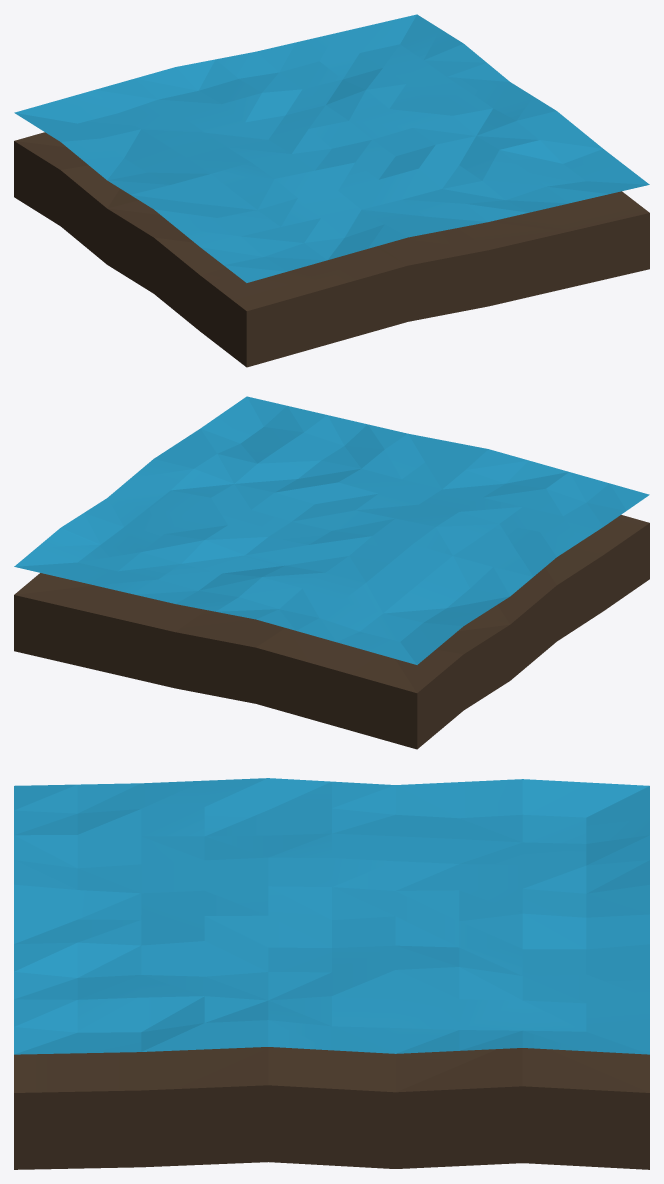
The model's file is terrains_terrain-world-water.fbx.
3 renders of one model, top to bottom at view 1: azimuth 30°, elevation 25°; view 2: azimuth 150°, elevation 25°; view 3: azimuth 270°, elevation 25°, orthographic. The views are drawn at different scales.
Visible parts, largest first — view 1: terrains_terrain_world_water; view 2: terrains_terrain_world_water; view 3: terrains_terrain_world_water.
Boxes of the visible parts, x1,y1,x2,y2 form: terrains_terrain_world_water: [14, 14, 649, 367]; terrains_terrain_world_water: [14, 396, 649, 749]; terrains_terrain_world_water: [14, 778, 649, 1169].
Bounding box in the file's own units: 200 × 43.07 × 200.
